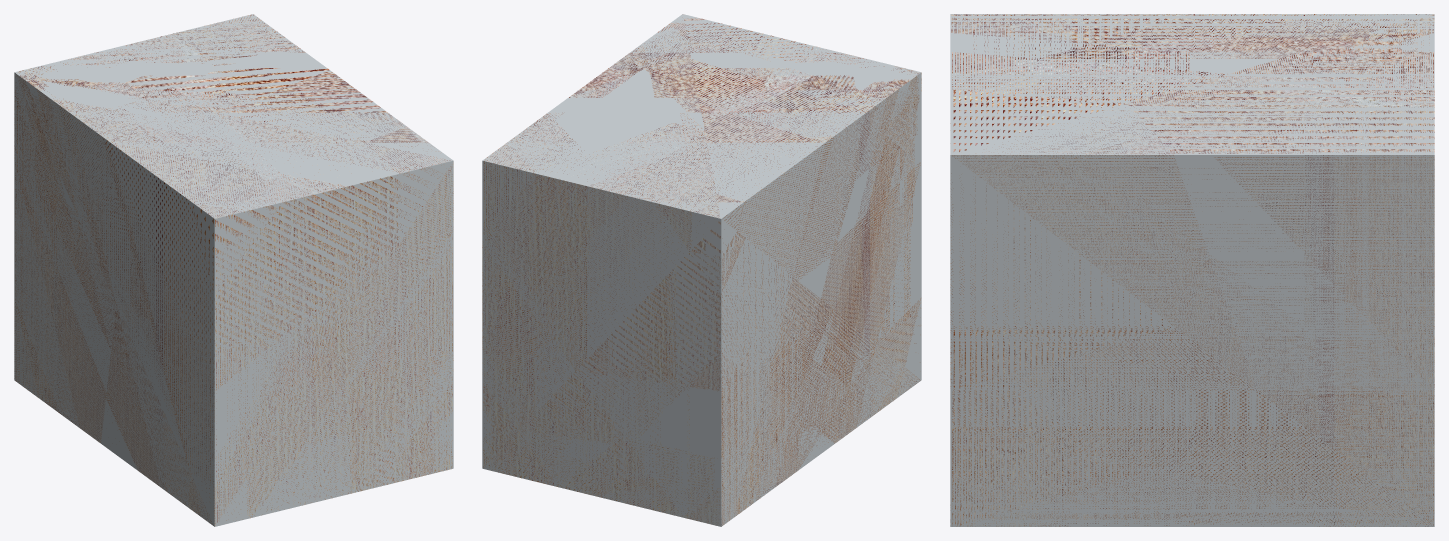
Rendered from keruing.glb.
3 views of the same model, side by side, from view 1: azimuth 30°, elevation 25°; view 2: azimuth 150°, elevation 25°; view 3: azimuth 270°, elevation 25° (orthographic). The views are drawn at different scales.
Parts seen in each view (by area): view 1: BackSide, FrontSide; view 2: BackSide, FrontSide; view 3: BackSide, FrontSide.
Boxes of the visible parts, x1,y1,x2,y2 form: BackSide: (14,14,453,526); FrontSide: (14,14,453,525); BackSide: (482,14,921,526); FrontSide: (482,18,921,525); BackSide: (950,14,1434,526); FrontSide: (950,14,1434,526).
Bounding box in the file's own units: 1.81 × 2.23 × 2.63.
4 materials, 3 textured.
